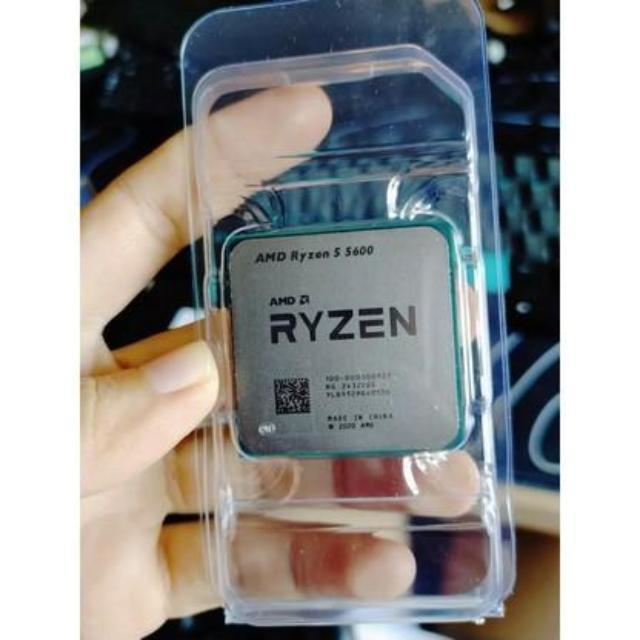CPU: (212, 224, 479, 458)
